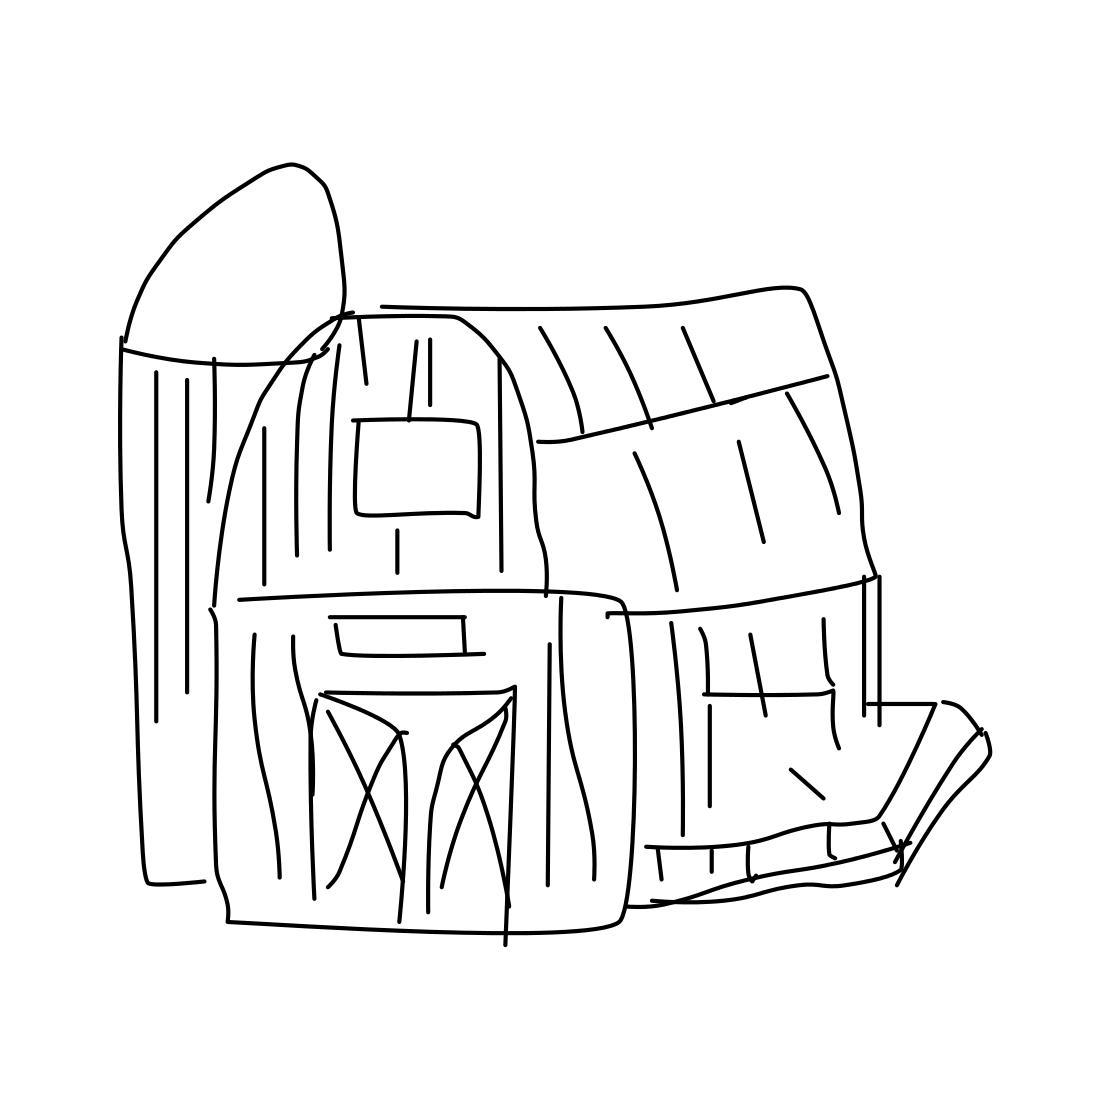House: (194, 284, 993, 948)
